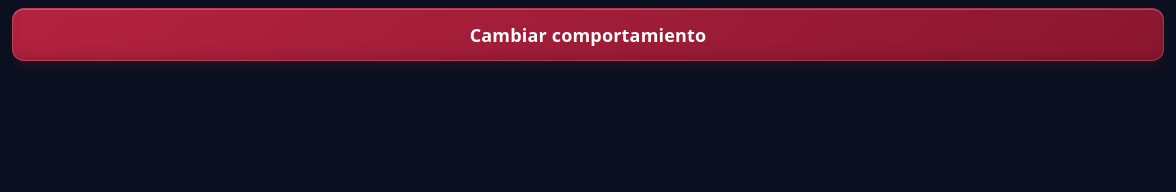
BehaviorSelector › Debería enviar el cambio con los ids correctos y avisar que se aplica desde el próximo tick
The width and height of the screenshot is (1176, 192).
Click the button "Cambiar comportamiento": (588, 35) [12,8,1164,61]
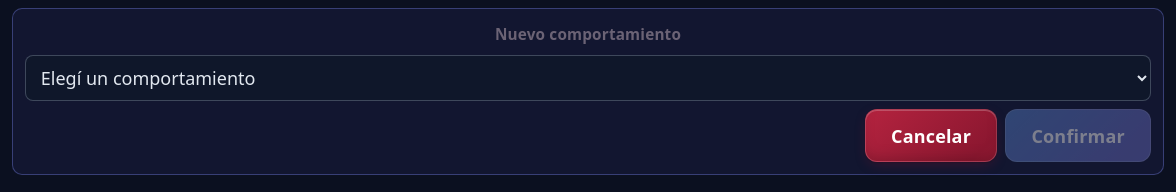
Select "Mi delantero" in the dropdown: (588, 78) [25,55,1151,101]
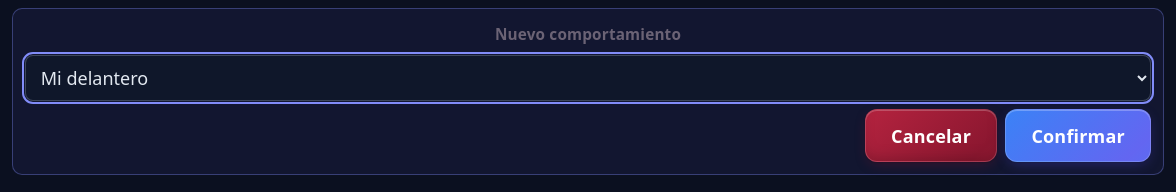
Click the button "Confirmar": (1078, 136) [1005,109,1151,162]
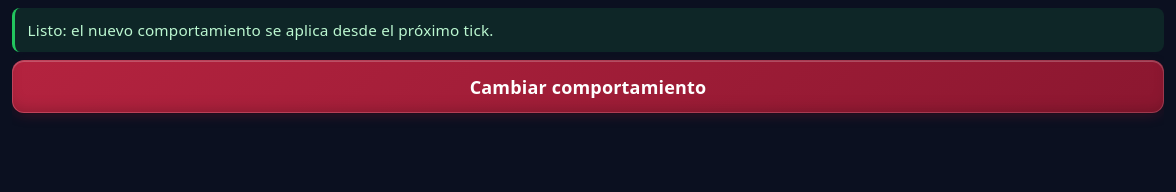
Expected: the message reads "Listo: el nuevo comportamiento se aplica desde el próximo tick.", [28,20,494,40]
